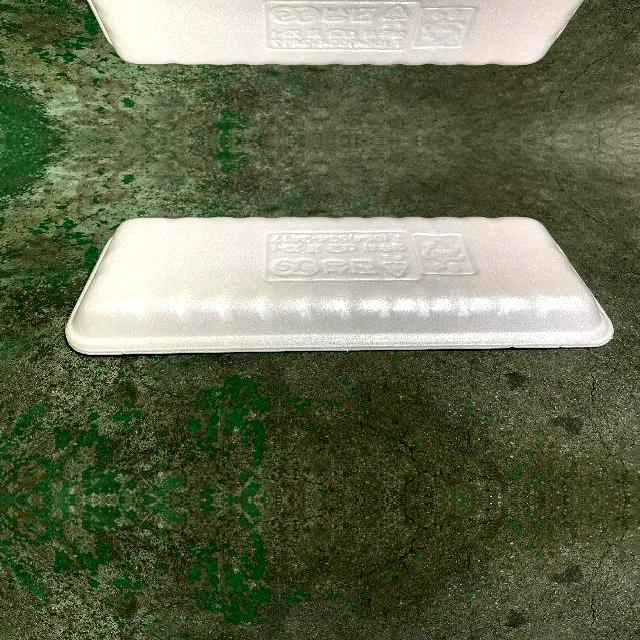Styrofoam: (64, 213, 616, 355), (65, 215, 614, 354), (64, 0, 615, 67), (87, 0, 584, 65)
